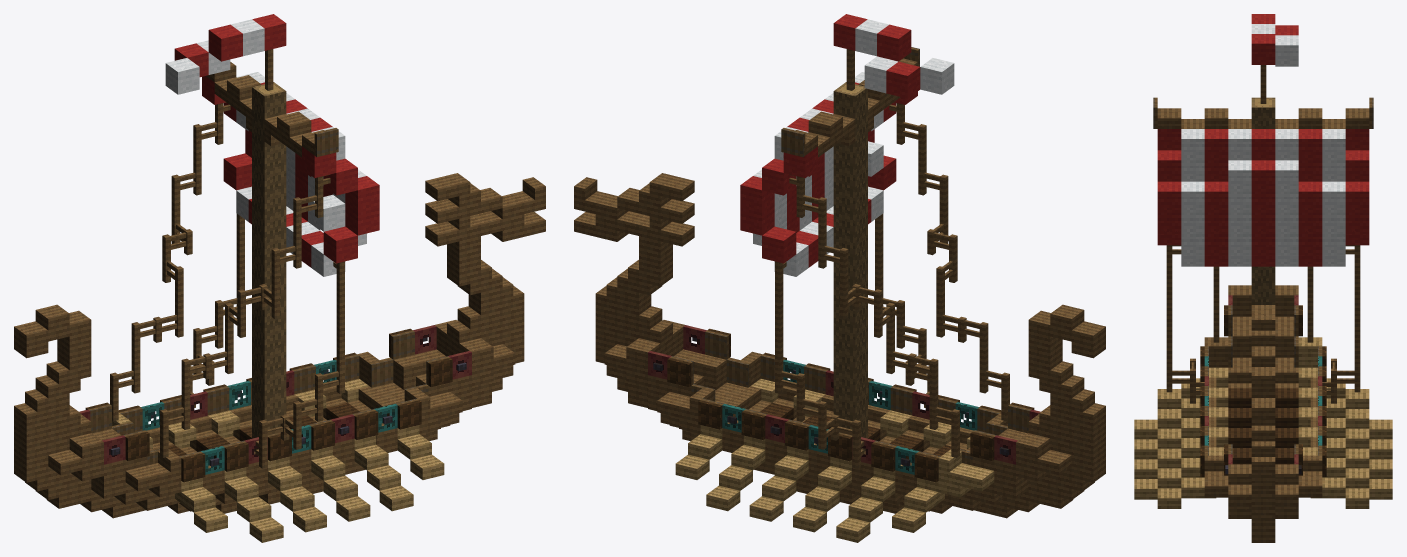
The model's file is Ship2.glb.
3 renders of one model, left to right at view 1: azimuth 30°, elevation 25°; view 2: azimuth 150°, elevation 25°; view 3: azimuth 270°, elevation 25°, orthographic. The views are drawn at different scales.
Visible parts, largest first — view 1: node_14, node_12, node_6, node_10, node_4, node_8, node_11, node_13, node_3, node_5, node_1, node_2 (+1 smaller); view 2: node_14, node_6, node_10, node_12, node_13, node_4, node_11, node_5, node_3, node_2, node_8, node_9; view 3: node_14, node_12, node_6, node_10, node_2, node_4, node_8, node_1, node_11, node_13, node_3, node_5.
Part boxes in pixels (x1=…): node_14: x1=14, y1=153, x2=307, y2=518; node_12: x1=48, y1=221, x2=370, y2=542; node_6: x1=286, y1=173, x2=545, y2=440; node_10: x1=165, y1=14, x2=307, y2=209; node_4: x1=308, y1=202, x2=515, y2=511; node_8: x1=264, y1=108, x2=357, y2=245; node_11: x1=102, y1=419, x2=334, y2=482; node_13: x1=79, y1=378, x2=251, y2=435; node_3: x1=331, y1=351, x2=471, y2=443; node_5: x1=286, y1=325, x2=436, y2=396; node_1: x1=308, y1=169, x2=379, y2=235; node_2: x1=245, y1=129, x2=307, y2=197; node_14: x1=749, y1=200, x2=1105, y2=542; node_6: x1=574, y1=173, x2=824, y2=511; node_10: x1=762, y1=14, x2=954, y2=245; node_12: x1=826, y1=155, x2=1027, y2=455; node_13: x1=785, y1=419, x2=1017, y2=482; node_4: x1=663, y1=183, x2=833, y2=428; node_11: x1=868, y1=378, x2=1040, y2=435; node_5: x1=648, y1=351, x2=788, y2=443; node_3: x1=683, y1=325, x2=833, y2=396; node_2: x1=740, y1=153, x2=824, y2=235; node_8: x1=825, y1=58, x2=926, y2=176; node_9: x1=781, y1=128, x2=805, y2=156; node_14: x1=1251, y1=234, x2=1392, y2=478; node_12: x1=1134, y1=234, x2=1251, y2=478; node_6: x1=1251, y1=234, x2=1392, y2=542; node_10: x1=1251, y1=14, x2=1369, y2=181; node_2: x1=1251, y1=160, x2=1369, y2=233; node_4: x1=1134, y1=234, x2=1251, y2=518; node_8: x1=1157, y1=108, x2=1251, y2=181; node_1: x1=1157, y1=160, x2=1251, y2=233; node_11: x1=1200, y1=295, x2=1232, y2=425; node_13: x1=1294, y1=295, x2=1326, y2=425; node_3: x1=1200, y1=416, x2=1232, y2=476; node_5: x1=1294, y1=416, x2=1326, y2=476.
Size of the model in its own units: 24 by 21 by 11.
2 materials, 2 textured.
